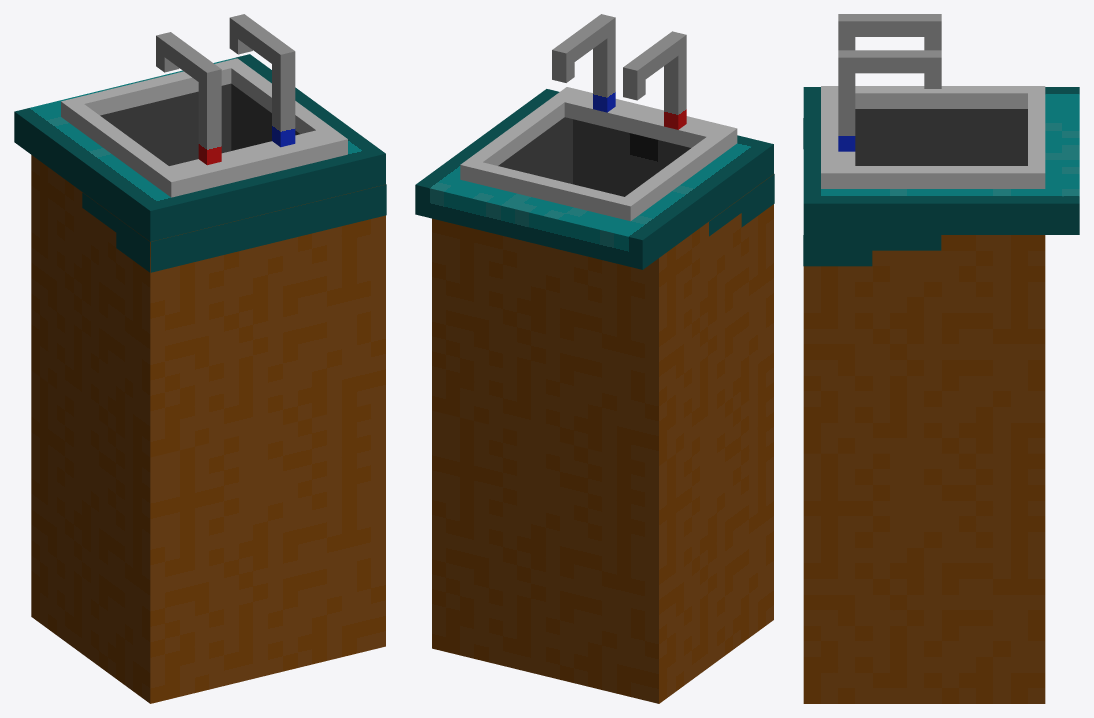
The model's file is Sink.obj.
3 views of the same model, side by side, from view 1: azimuth 30°, elevation 25°; view 2: azimuth 150°, elevation 25°; view 3: azimuth 270°, elevation 25° (orthographic). The views are drawn at different scales.
Parts seen in each view (by area): view 1: cube; view 2: cube; view 3: cube.
Boxes of the visible parts, x1=… form: cube: x1=14, y1=14, x2=386, y2=703; cube: x1=415, y1=14, x2=774, y2=703; cube: x1=803, y1=14, x2=1079, y2=703.
Size of the model in its own units: 1 by 2.44 by 1.
